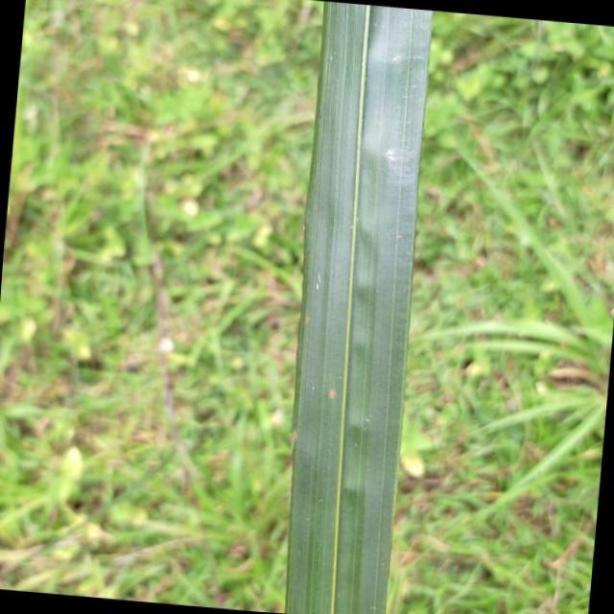Boron: (282, 0, 428, 614)
